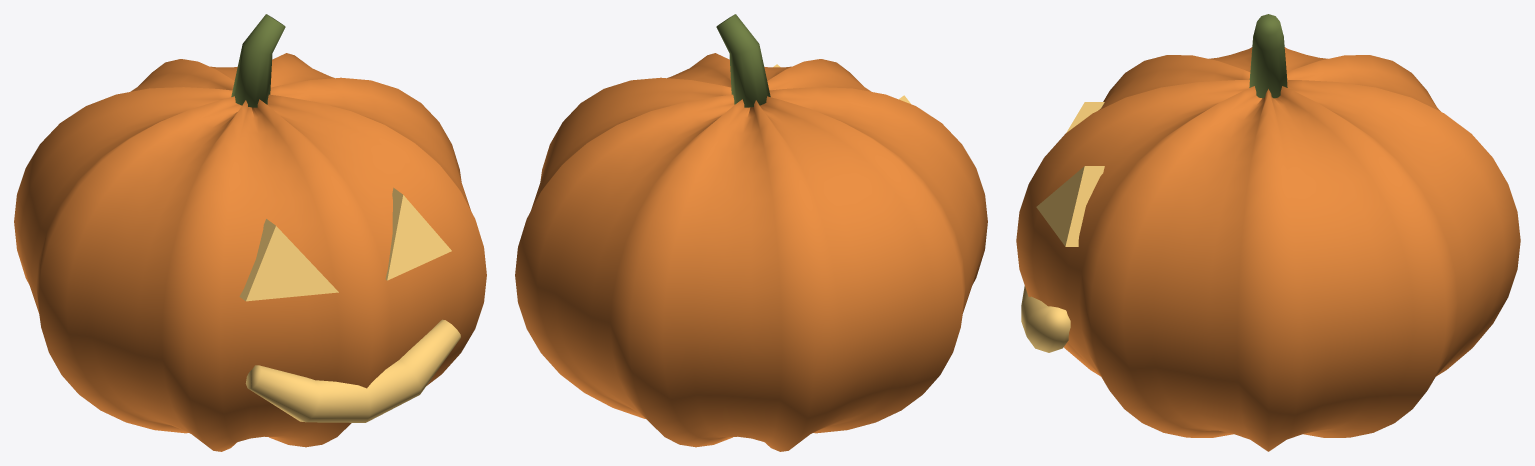
File: jack_o_lantern.glb
The picture shows the model from 3 angles, left to right: view 1: azimuth 30°, elevation 25°; view 2: azimuth 150°, elevation 25°; view 3: azimuth 270°, elevation 25°; orthographic projection. The views are drawn at different scales.
Parts seen in each view (by area): view 1: LH_jack_o_lantern; view 2: LH_jack_o_lantern; view 3: LH_jack_o_lantern.
Part boxes in pixels (x1,y1,x2,y2): LH_jack_o_lantern: (14,14,486,451); LH_jack_o_lantern: (515,14,987,451); LH_jack_o_lantern: (1016,14,1520,451).
Size of the model in its own units: 0.3 by 0.2745 by 0.3.
